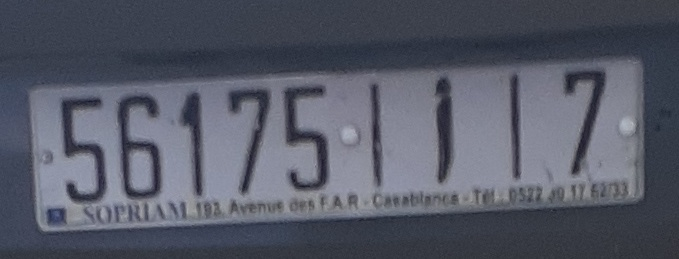1: (173, 81, 216, 198)
5: (279, 76, 335, 195), (59, 88, 107, 204)
6: (113, 86, 165, 201)
7: (545, 63, 618, 179), (222, 81, 277, 197)
a: (418, 71, 468, 189)
